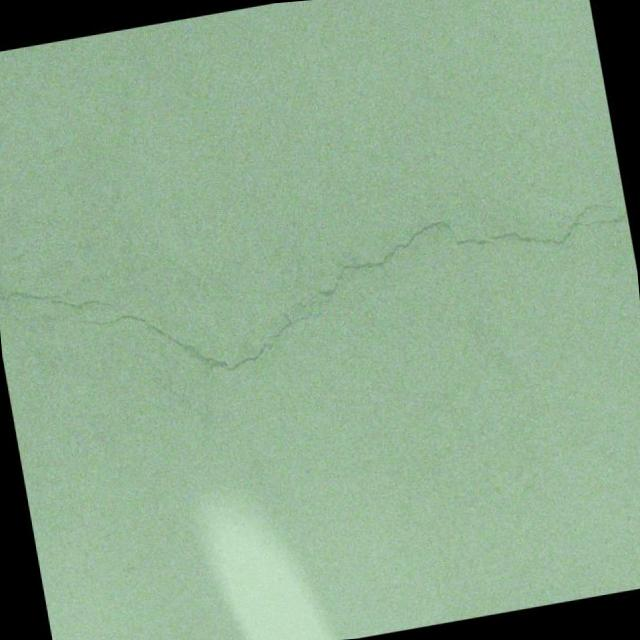crack: (73, 188, 640, 399), (0, 270, 125, 331)
